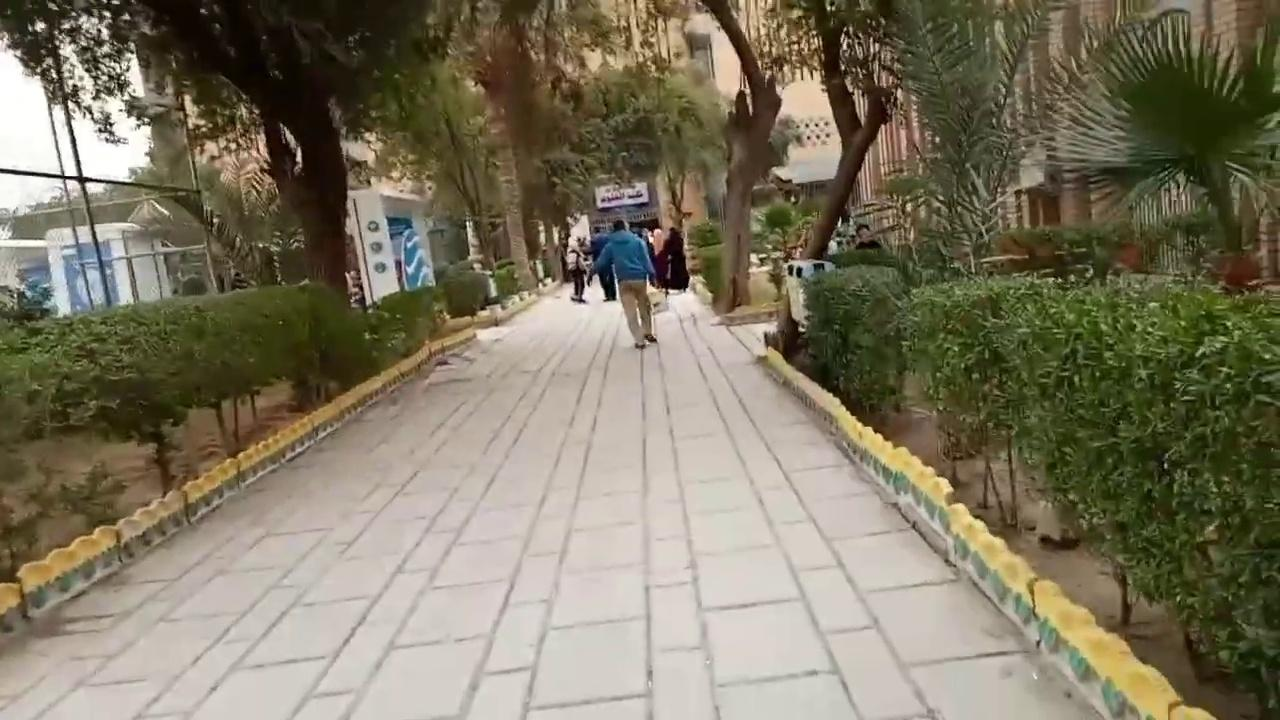person: (595, 218, 658, 348), (853, 223, 881, 249)
tree: (0, 0, 1273, 327), (894, 269, 1279, 716), (5, 0, 482, 309), (354, 0, 808, 316), (1044, 7, 1278, 276), (875, 0, 1067, 275), (436, 0, 617, 291), (0, 0, 136, 309), (681, 0, 809, 313), (771, 0, 914, 263), (751, 197, 815, 301)
